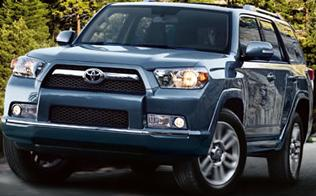front_view: (4, 57, 209, 176)
headlight: (151, 62, 211, 93)
side_glass: (229, 16, 286, 62)
